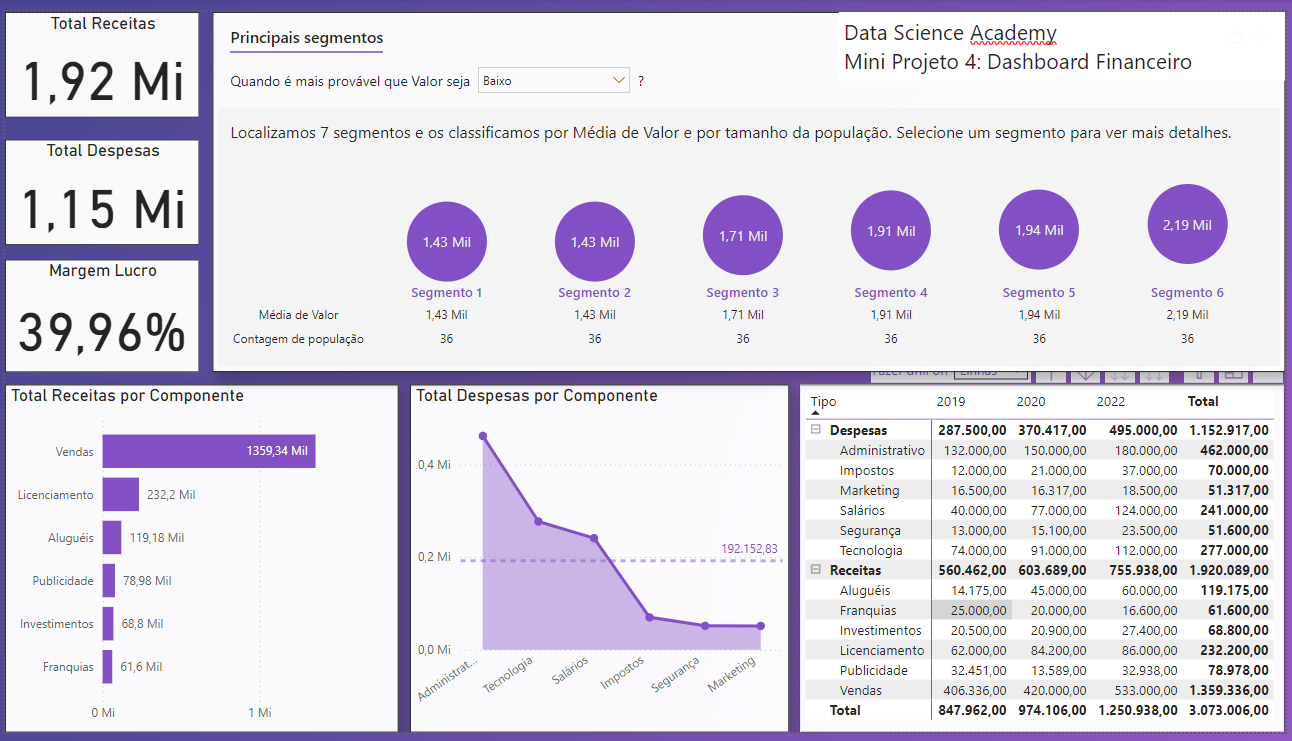

Layout of this report page (visuals, bound fields, positions):
{"tool":"powerbi","page":{"name":"Página 1","canvas":[1280,720],"ordinal":0},"visuals":[{"type":"card","title":"Total Receitas","fields":{"Values":["Medidas Indicadores Financeiros.TotalReceitas"]},"box":[0,0,194.3,105.7],"z":0},{"type":"card","title":"Total Despesas","fields":{"Values":["Medidas Indicadores Financeiros.TotalDespesas"]},"box":[0,127.1,194.3,105.7],"z":1000},{"type":"card","title":"Margem Lucro","fields":{"Values":["Medidas Indicadores Financeiros.MargemLucro"]},"box":[0,247.1,194.3,112.9],"z":2000},{"type":"clusteredBarChart","title":"Total Receitas por Componente","fields":{"Category":["DadosFinanceiros.Componente"],"Y":["Medidas Indicadores Financeiros.TotalReceitas"]},"box":[0,373,393.7,347.6],"z":3000},{"type":"areaChart","title":"Total Despesas por Componente","fields":{"Category":["DadosFinanceiros.Componente"],"Y":["Medidas Indicadores Financeiros.TotalDespesas"]},"box":[404.8,373,379.4,347.6],"z":4000},{"type":"pivotTable","fields":{"Rows":["DadosFinanceiros.Tipo","DadosFinanceiros.Componente"],"Columns":["DadosFinanceiros.Data.Variation.Hierarquia de datas.Ano","DadosFinanceiros.Data.Variation.Hierarquia de datas.Trimestre","DadosFinanceiros.Data.Variation.Hierarquia de datas.Mês","DadosFinanceiros.Data.Variation.Hierarquia de datas.Dia"],"Values":["Sum(DadosFinanceiros.Valor)"]},"box":[795.2,373,484.1,347.6],"z":5000},{"type":"keyDriversVisual","fields":{"Target":["DadosFinanceiros.Valor"],"ExplainBy":["DadosFinanceiros.Tipo","DadosFinanceiros.Componente"]},"box":[207.1,0,1072.9,360],"z":6000},{"type":"textbox","box":[834,0,446.3,68.5],"z":6001}]}

Visuals, with their boxes in screenshot pixels (x1, y1, x2, y2), scaled from the page's 1280x720 canvas onto the 1292x741 screenshot:
"Total Receitas" card: region(0, 0, 196, 109)
"Total Despesas" card: region(0, 131, 196, 240)
"Margem Lucro" card: region(0, 254, 196, 370)
"Total Receitas por Componente" clusteredBarChart: region(0, 384, 397, 740)
"Total Despesas por Componente" areaChart: region(409, 384, 792, 740)
pivotTable - DadosFinanceiros.Tipo x DadosFinanceiros.Componente: region(803, 384, 1291, 740)
keyDriversVisual - DadosFinanceiros.Valor x DadosFinanceiros.Tipo: region(209, 0, 1291, 370)
textbox: region(842, 0, 1291, 70)
